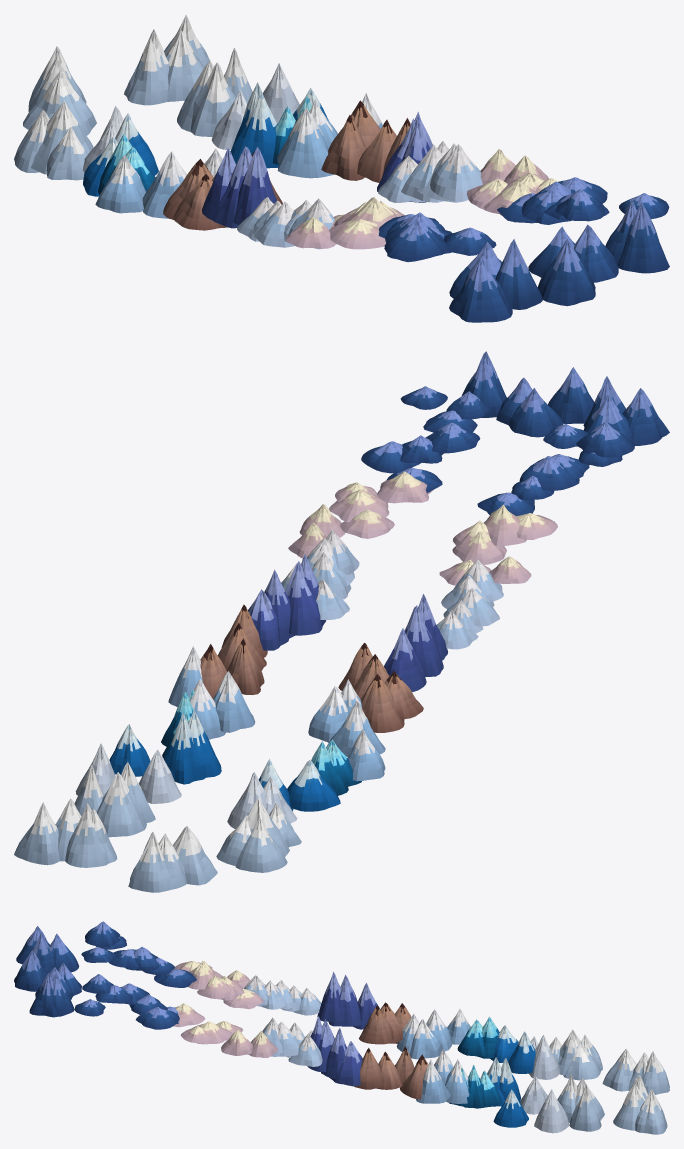
The model's file is ss_backdrop.fbx.
3 renders of one model, top to bottom at view 1: azimuth 30°, elevation 25°; view 2: azimuth 150°, elevation 25°; view 3: azimuth 270°, elevation 25°, orthographic. The views are drawn at different scales.
Visible parts, largest first — view 1: BG_Peak_02, BG_Peak_63, BG_Peak_01, BG_Peak_04, BG_Peak_82, BG_Peak_36, BG_Peak_73, BG_Peak_03, BG_Peak_66, BG_Peak_88, BG_Peak_89, BG_Peak_12 (+52 smaller); view 2: BG_Peak_85, BG_Peak_47, BG_Peak_93, BG_Peak_72, BG_Peak_86, BG_Peak_91, BG_Peak_08, BG_Peak_01, BG_Peak_94, BG_Peak_58, BG_Peak_63, BG_Peak_02 (+45 smaller); view 3: BG_Peak_93, BG_Peak_80, BG_Peak_87, BG_Peak_48, BG_Peak_52, BG_Peak_62, BG_Peak_88, BG_Peak_01, BG_Peak_61, BG_Peak_79, BG_Peak_89, BG_Peak_84 (+59 smaller).
Boxes of the visible parts, box(x1,y1,x2,y2) form: BG_Peak_02: box(449, 257, 512, 322); BG_Peak_63: box(276, 107, 333, 178); BG_Peak_01: box(537, 239, 595, 306); BG_Peak_04: box(617, 202, 669, 273); BG_Peak_82: box(191, 62, 235, 136); BG_Peak_36: box(430, 144, 482, 201); BG_Peak_73: box(230, 90, 278, 168); BG_Peak_03: box(495, 239, 542, 309); BG_Peak_66: box(95, 155, 146, 213); BG_Peak_88: box(23, 71, 96, 135); BG_Peak_89: box(165, 29, 204, 101); BG_Peak_12: box(384, 220, 448, 260); BG_Peak_85: box(96, 772, 146, 837); BG_Peak_47: box(285, 561, 325, 635); BG_Peak_93: box(14, 802, 59, 865); BG_Peak_72: box(287, 760, 340, 811); BG_Peak_86: box(235, 817, 287, 872); BG_Peak_91: box(65, 803, 108, 867); BG_Peak_08: box(509, 388, 563, 437); BG_Peak_01: box(548, 367, 594, 423); BG_Peak_94: box(128, 832, 170, 892); BG_Peak_58: box(360, 674, 404, 732); BG_Peak_63: box(213, 671, 255, 732); BG_Peak_02: box(622, 388, 669, 445); BG_Peak_93: box(635, 1089, 667, 1134); BG_Peak_80: box(534, 1089, 569, 1133); BG_Peak_87: box(569, 1084, 601, 1131); BG_Peak_48: box(328, 974, 361, 1026); BG_Peak_52: box(359, 1005, 393, 1044); BG_Peak_62: box(409, 1019, 442, 1059); BG_Peak_88: box(602, 1048, 636, 1091); BG_Peak_01: box(14, 950, 46, 991); BG_Peak_61: box(416, 1059, 450, 1103); BG_Peak_79: box(528, 1035, 560, 1079); BG_Peak_89: box(613, 1084, 645, 1130); BG_Peak_84: box(563, 1043, 600, 1080).
Size of the model in its own units: 7202 by 5754 by 23527.
1 material, 1 textured.
